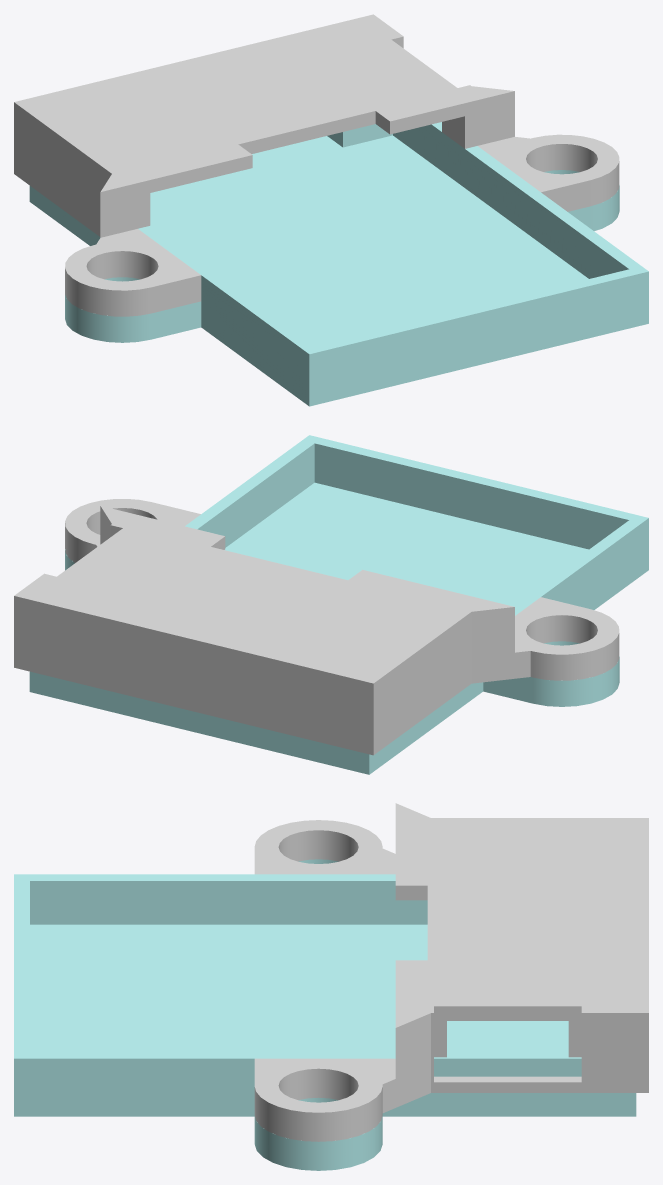
The picture shows the model from 3 angles, top to bottom: view 1: azimuth 30°, elevation 25°; view 2: azimuth 150°, elevation 25°; view 3: azimuth 270°, elevation 25°; orthographic projection. The views are drawn at different scales.
Parts seen in each view (by area): view 1: relayCaseV2_Pins; view 2: relayCaseV2_Pins; view 3: relayCaseV2_Pins.
Part boxes in pixels (box(x1,y1,x2,y2)): relayCaseV2_Pins: box(14, 14, 648, 406); relayCaseV2_Pins: box(14, 435, 648, 774); relayCaseV2_Pins: box(14, 803, 648, 1170).
Bounding box in the file's own units: 0.0549 × 0.00953 × 0.0503.
